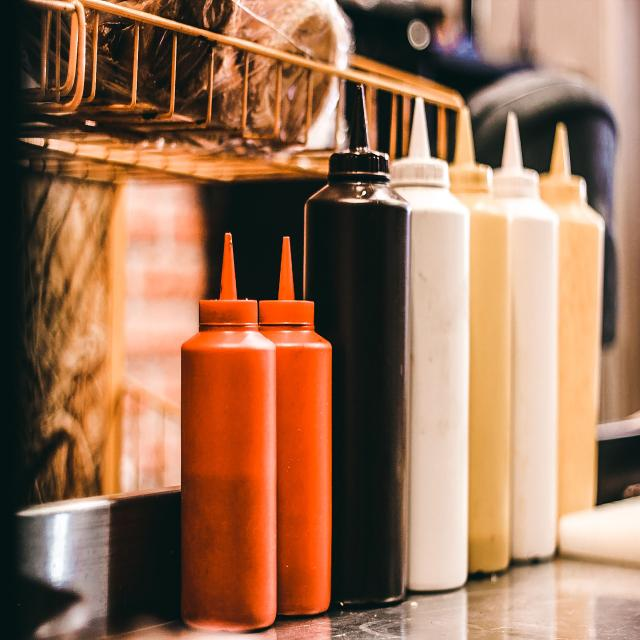Bottle: (304, 87, 410, 604), (391, 99, 469, 590), (182, 234, 276, 630), (494, 113, 558, 560), (450, 107, 511, 573), (259, 237, 331, 615), (540, 123, 604, 518)
